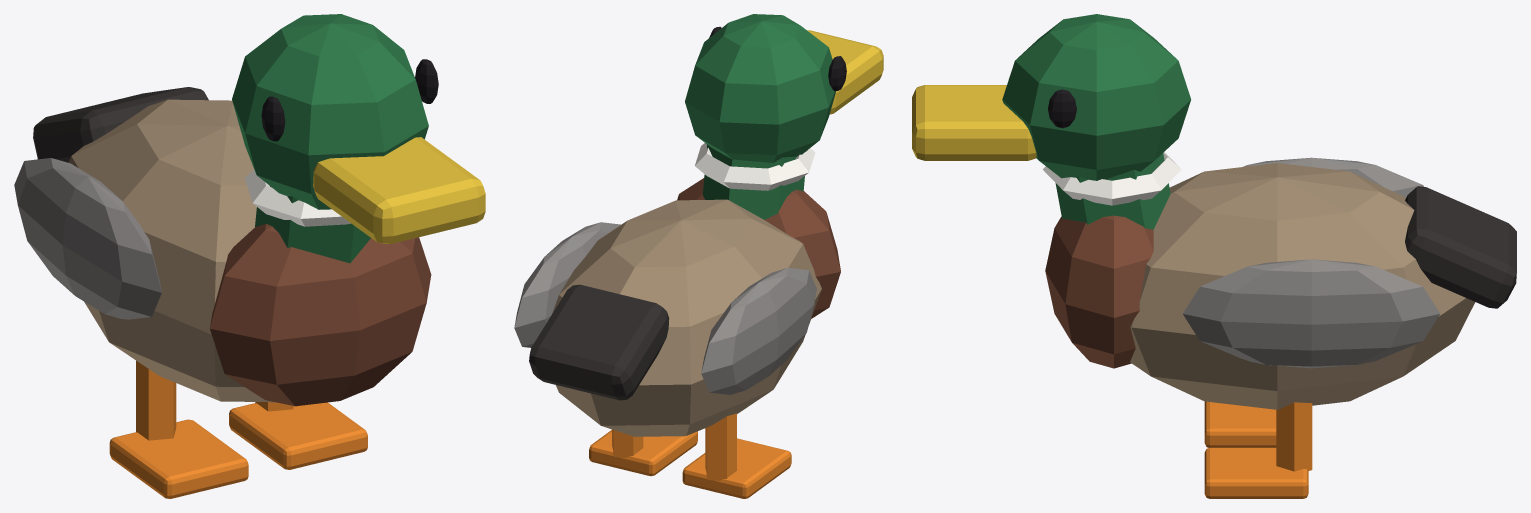
Rendered from duck_mallard.glb.
3 views of the same model, side by side, from view 1: azimuth 30°, elevation 25°; view 2: azimuth 150°, elevation 25°; view 3: azimuth 270°, elevation 25° (orthographic). The views are drawn at different scales.
Parts seen in each view (by area): view 1: body_mesh, head_mesh, wing_r_mesh, leg_r_mesh, leg_l_mesh; view 2: body_mesh, head_mesh, wing_r_mesh, leg_r_mesh, wing_l_mesh, leg_l_mesh; view 3: body_mesh, head_mesh, wing_l_mesh, leg_l_mesh, leg_r_mesh, wing_r_mesh.
Boxes of the visible parts, box(x1,y1,x2,y2) form: body_mesh: box(33, 87, 431, 406); head_mesh: box(232, 14, 485, 263); wing_r_mesh: box(14, 158, 161, 319); leg_r_mesh: box(109, 360, 248, 498); leg_l_mesh: box(229, 402, 367, 469); body_mesh: box(529, 178, 840, 436); head_mesh: box(685, 14, 883, 219); wing_r_mesh: box(701, 268, 816, 394); leg_r_mesh: box(682, 413, 791, 498); wing_l_mesh: box(514, 222, 620, 347); leg_l_mesh: box(589, 429, 697, 476); body_mesh: box(1045, 163, 1516, 409); head_mesh: box(912, 14, 1191, 229); wing_l_mesh: box(1183, 259, 1439, 368); leg_l_mesh: box(1204, 402, 1312, 498); leg_r_mesh: box(1204, 401, 1276, 447); wing_r_mesh: box(1243, 157, 1423, 197).
Size of the model in its own units: 0.34 by 0.56 by 0.704.
